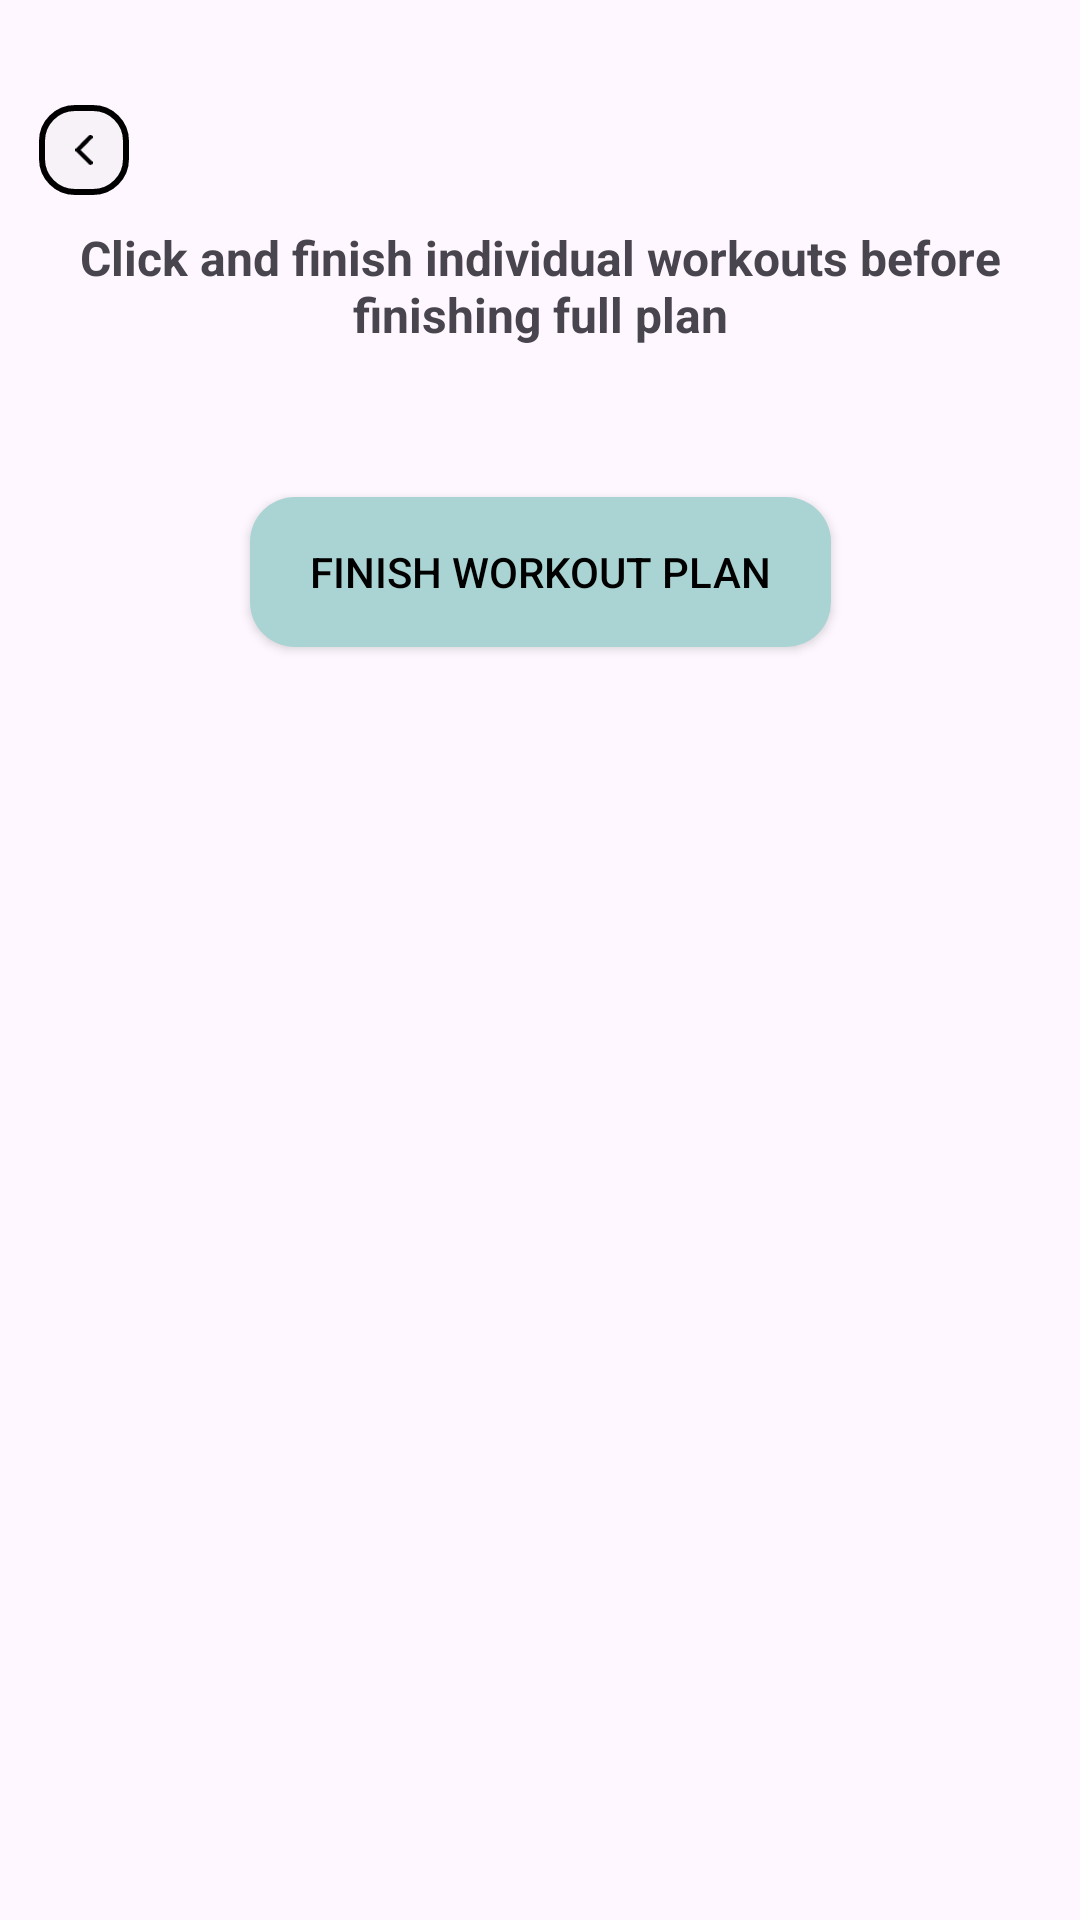

Icons on this 1080px x 1920px Android screen, each with the point to tap as point (x, y):
arrow back: point (84, 150)
